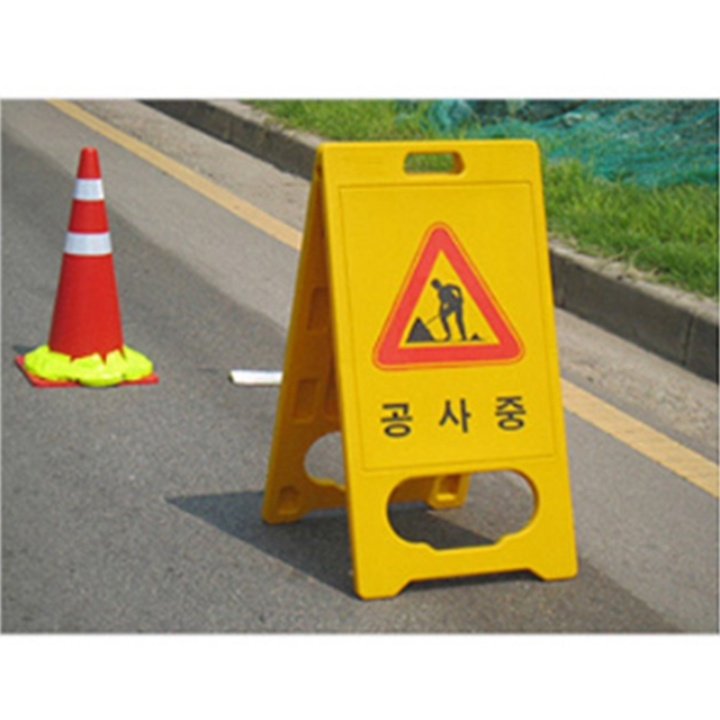const: (403, 276, 484, 344)
